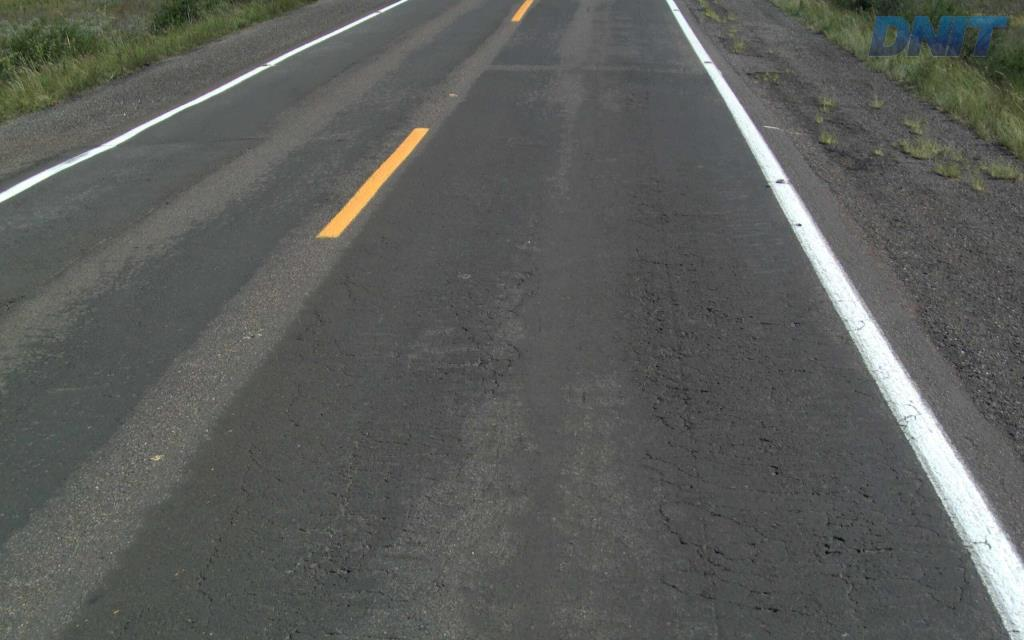crack: (642, 326, 710, 439)
